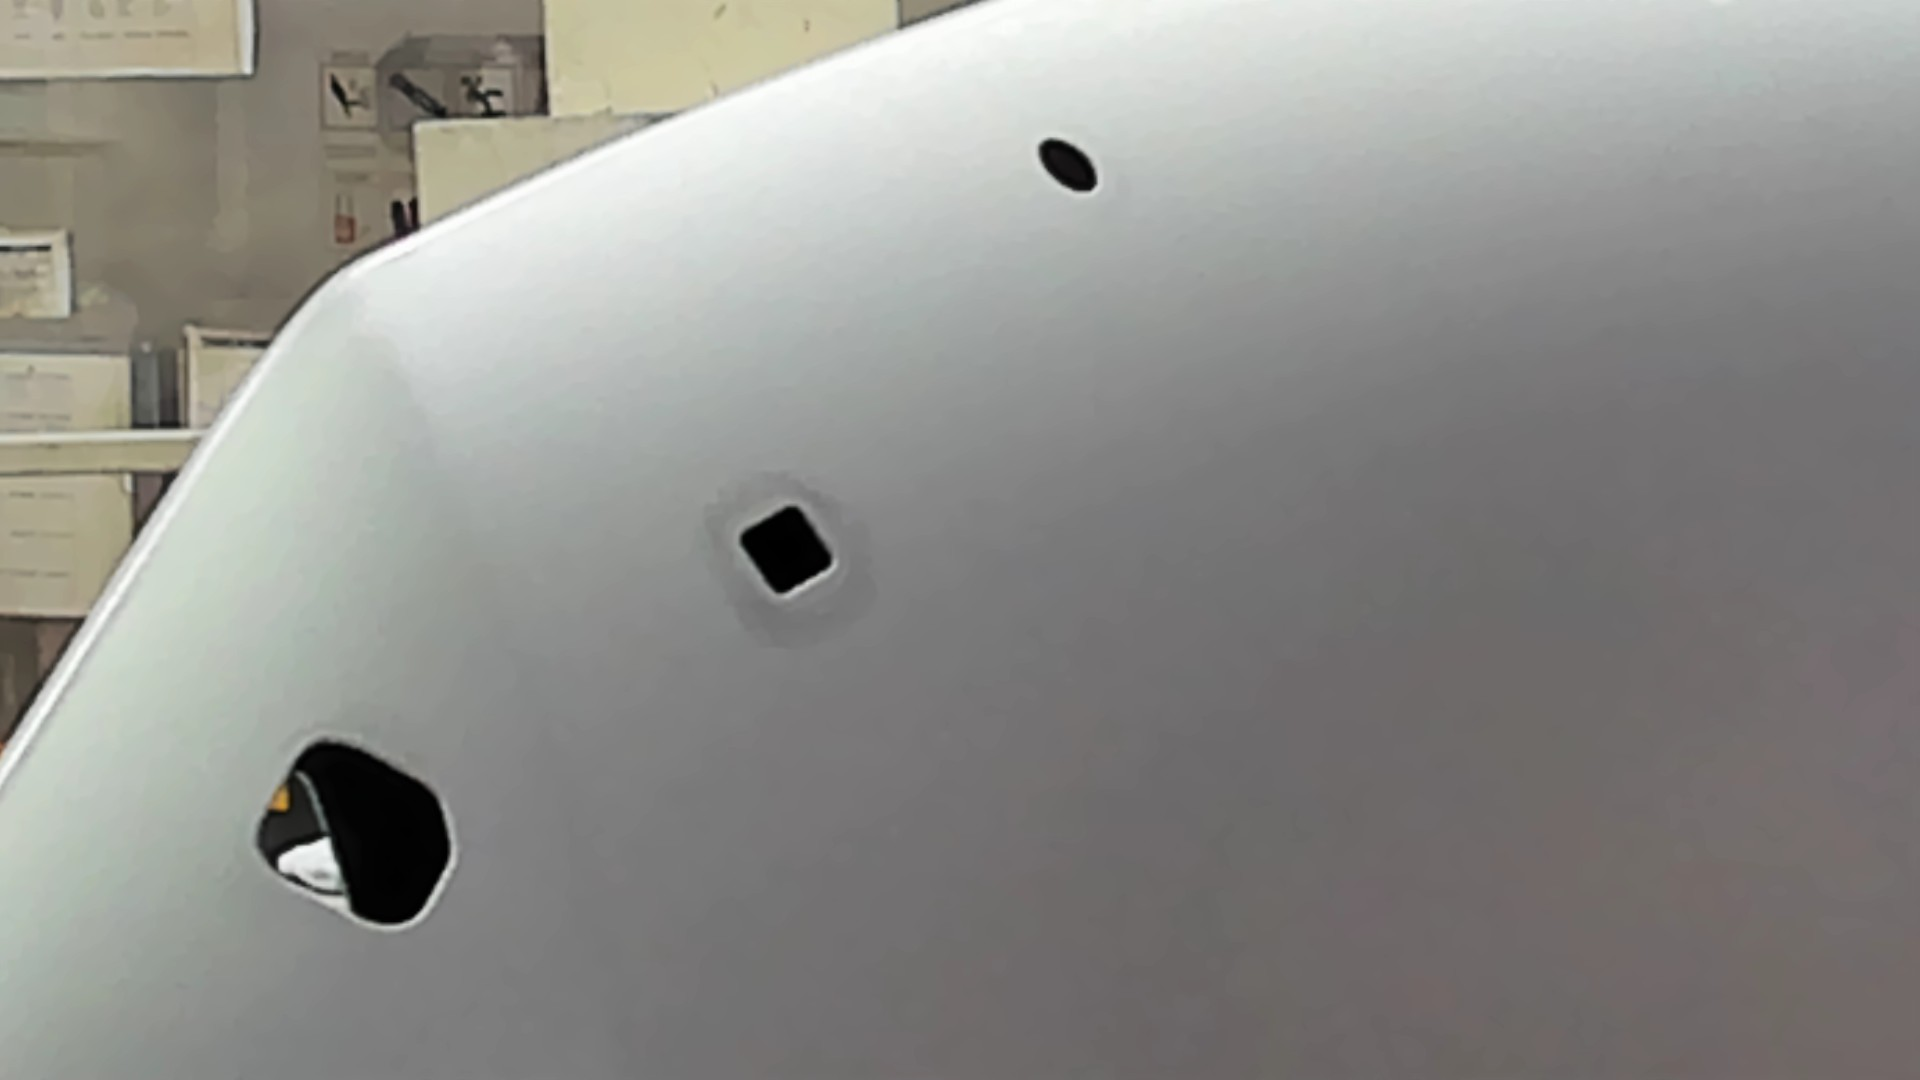chico: (1033, 133, 1102, 200)
grande: (245, 728, 462, 945)
mediano: (724, 496, 841, 601)
